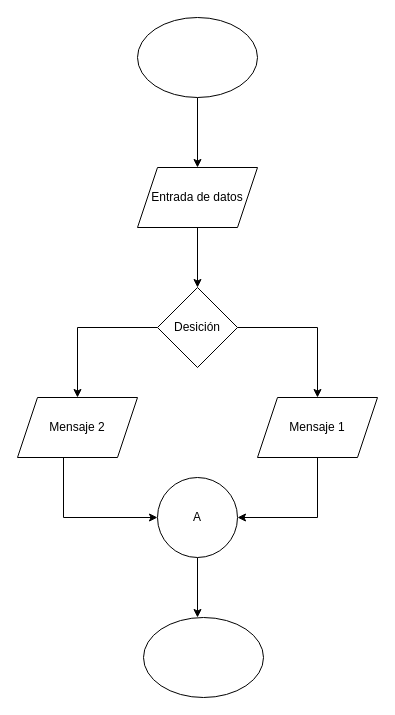
Image size: 395x715. Some labels were removed from this diagram. The centre of each missing label's shape, as x and y in pixels:
Fin: the point at 203,657
Inicio: the point at 197,57
